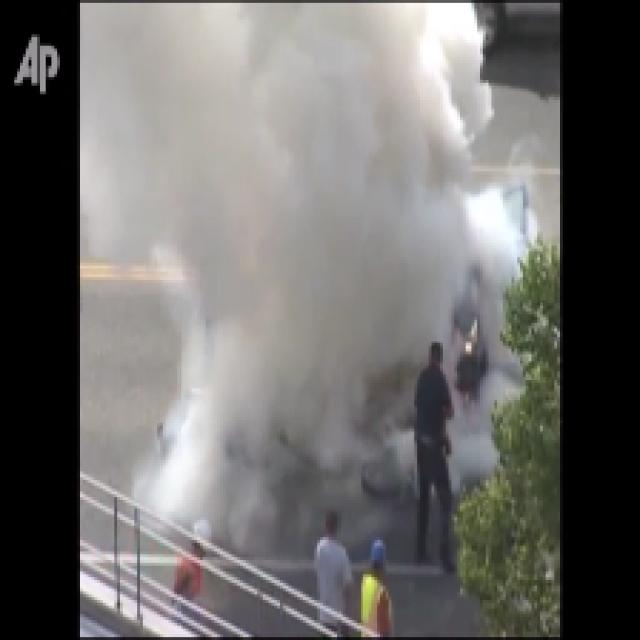fire: (193, 13, 437, 362)
